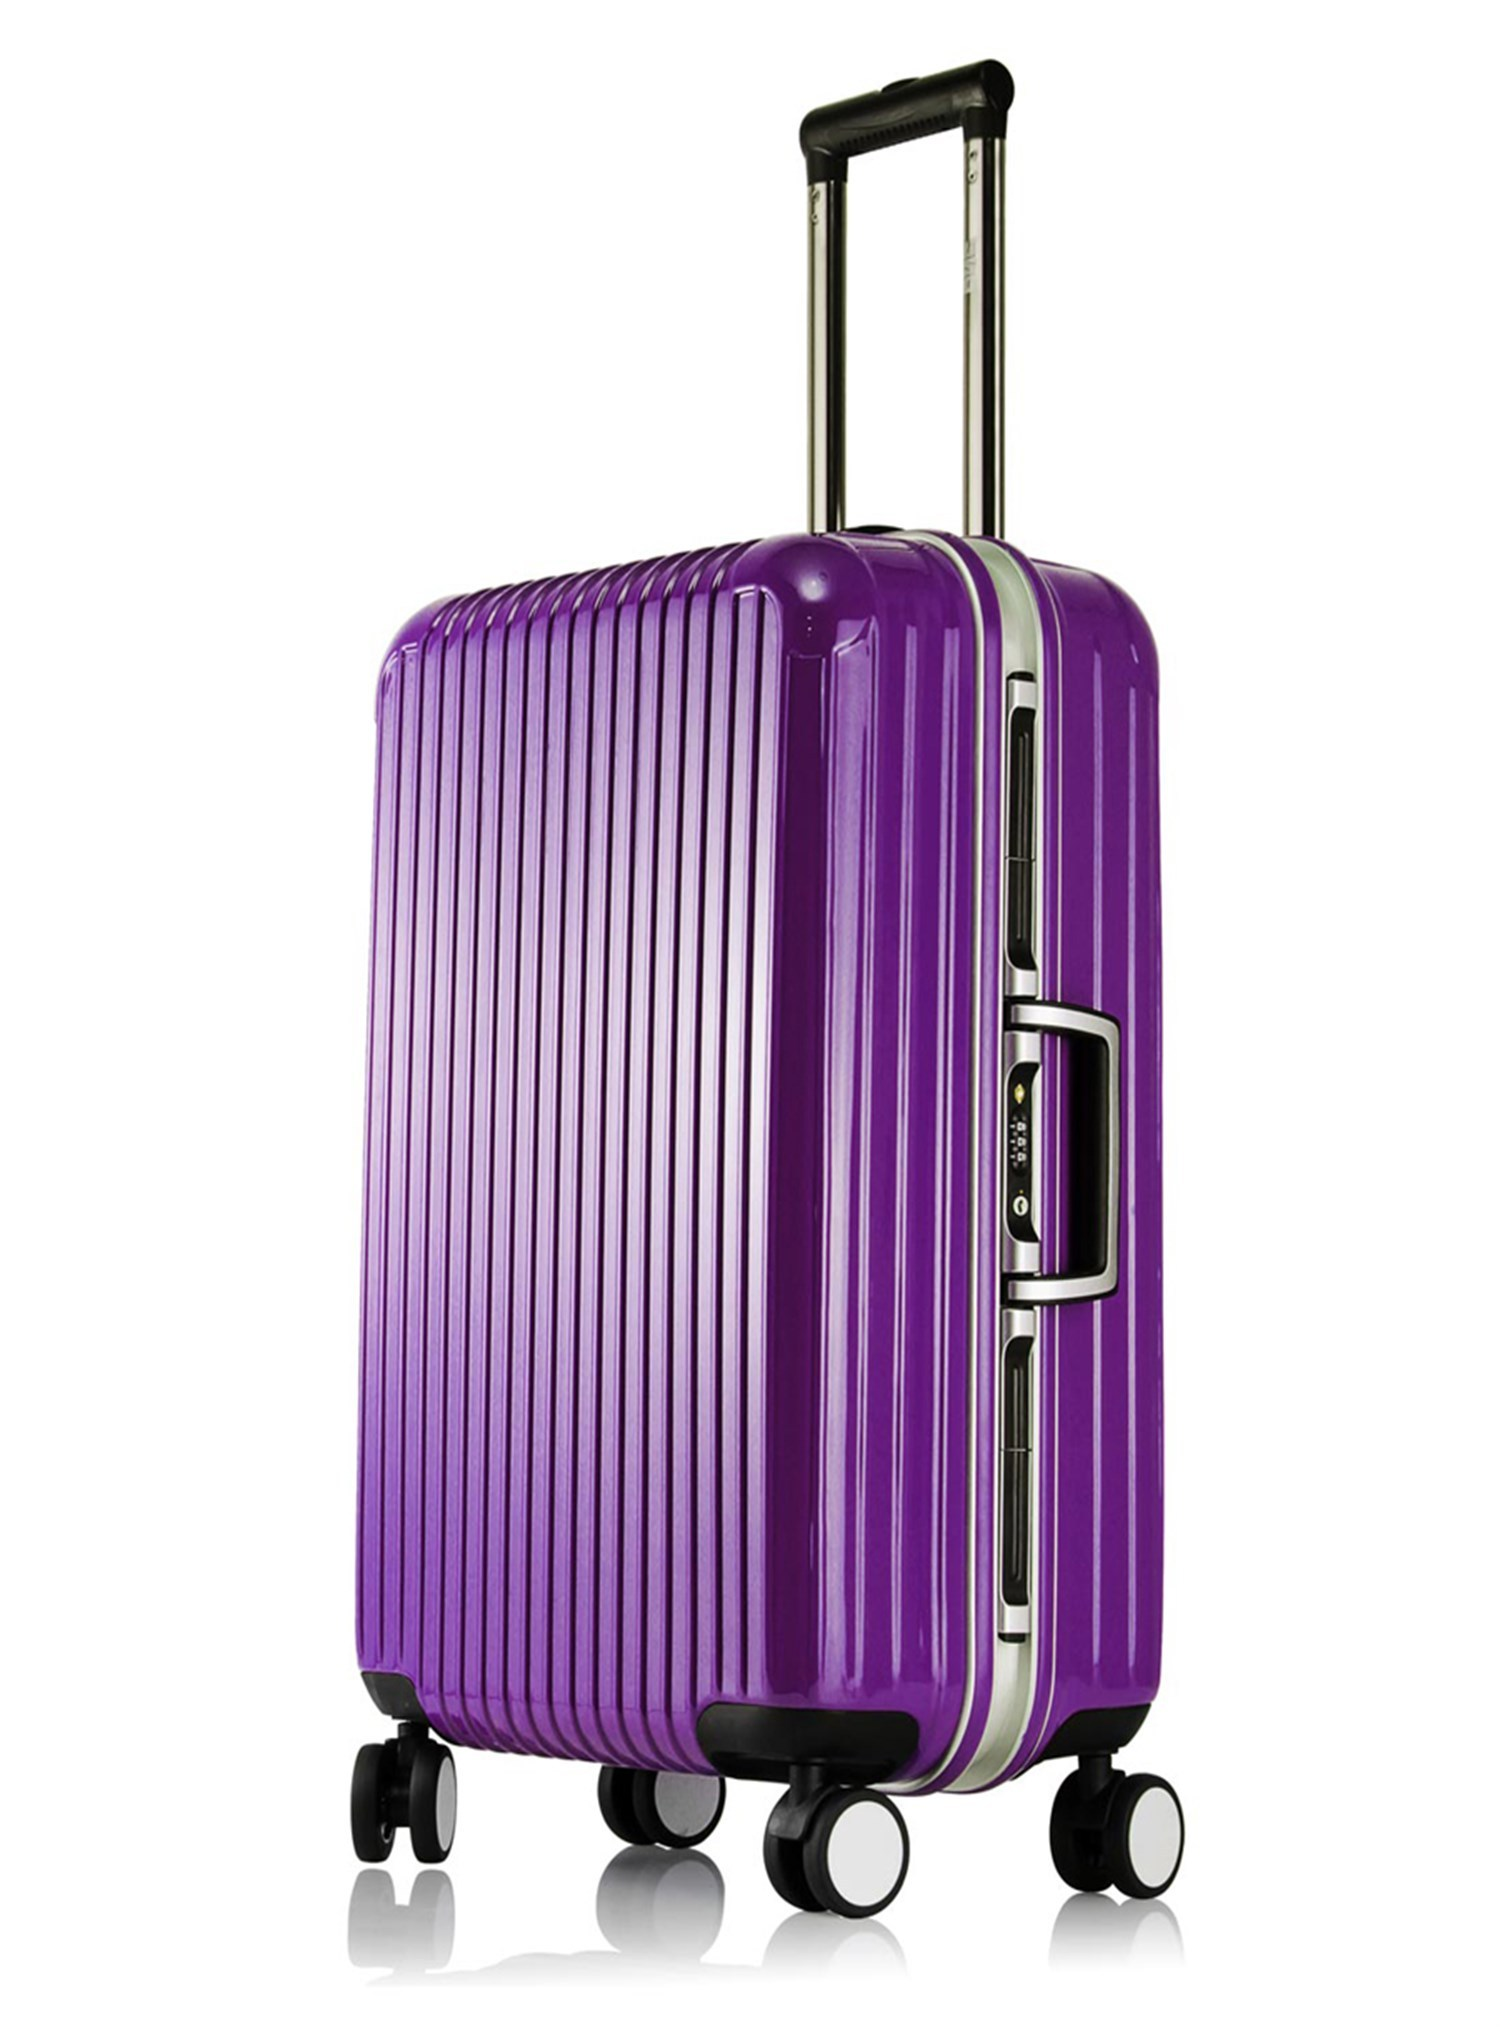luggage: (348, 60, 1186, 1918)
